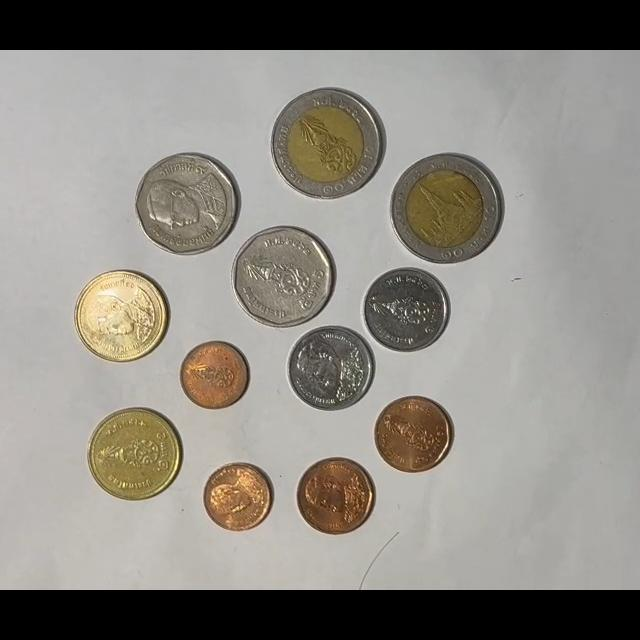1-baht: (287, 325, 375, 412), (362, 267, 449, 354)
10-baht: (271, 87, 385, 201), (390, 153, 503, 264)
2-baht: (87, 408, 183, 501), (74, 269, 167, 363)
25-satang: (203, 463, 274, 533), (179, 341, 249, 410)
5-baht: (135, 153, 239, 256), (232, 226, 335, 329)
50-satang: (296, 458, 376, 536), (374, 396, 454, 473)
